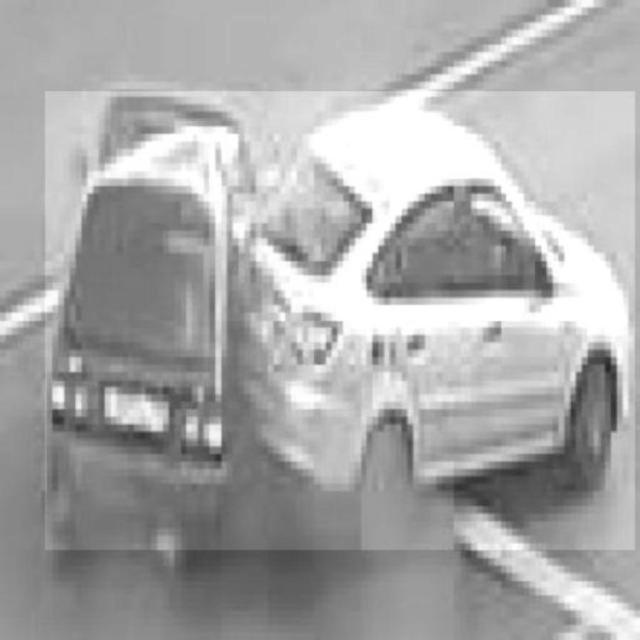accident: (45, 91, 635, 549)
